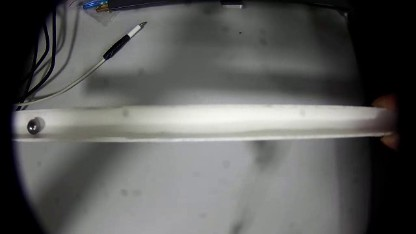gangzhu: (25, 115, 44, 135)
